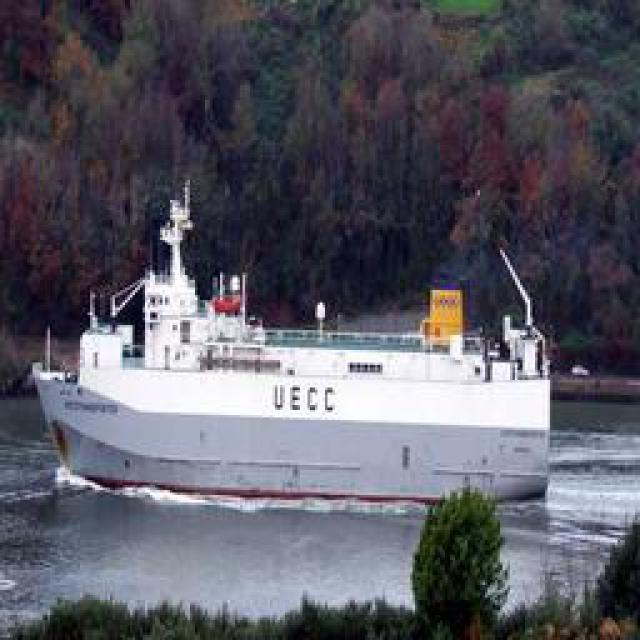Ship: (34, 298, 549, 516)
